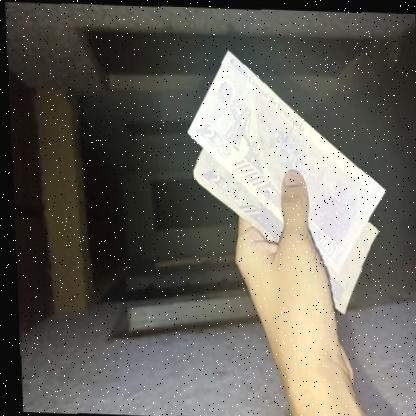vef_back: (177, 46, 389, 274)
